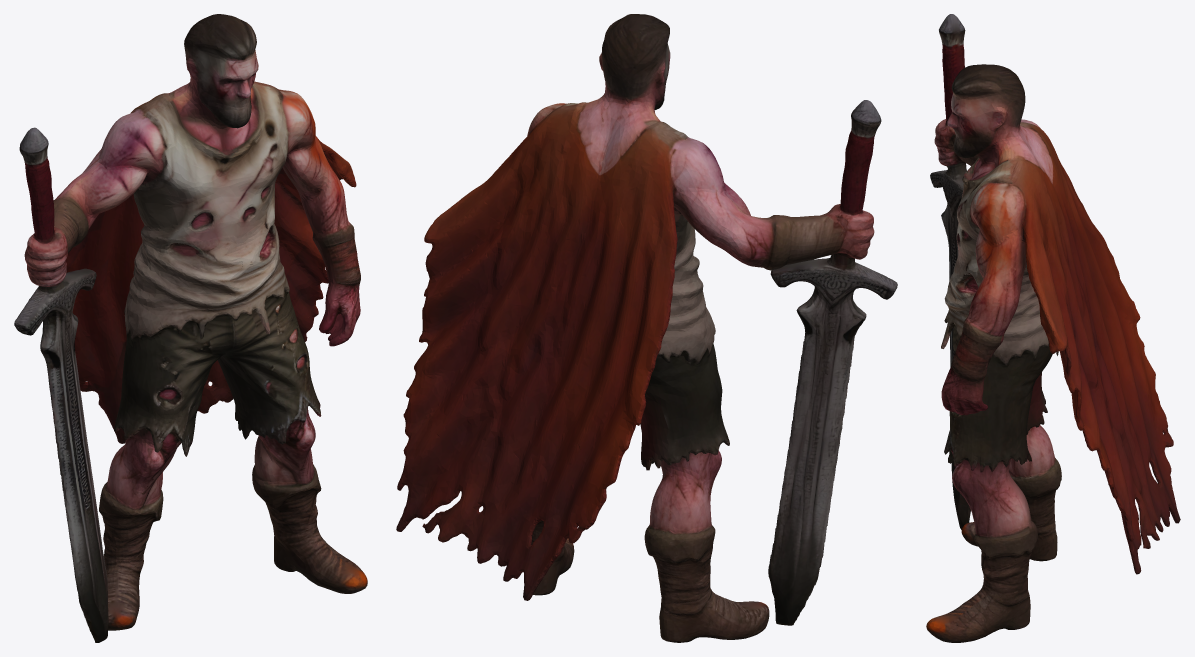
The model's file is character_warrior.obj.
3 renders of one model, left to right at view 1: azimuth 30°, elevation 25°; view 2: azimuth 150°, elevation 25°; view 3: azimuth 270°, elevation 25°, orthographic. The views are drawn at different scales.
Parts seen in each view (by area): view 1: material; view 2: material; view 3: material.
Part boxes in pixels (bbox=[...]): material: bbox=[14, 14, 367, 642]; material: bbox=[396, 14, 897, 642]; material: bbox=[926, 14, 1180, 642].
Size of the model in its own units: 0.734 by 1.01 by 0.443.
